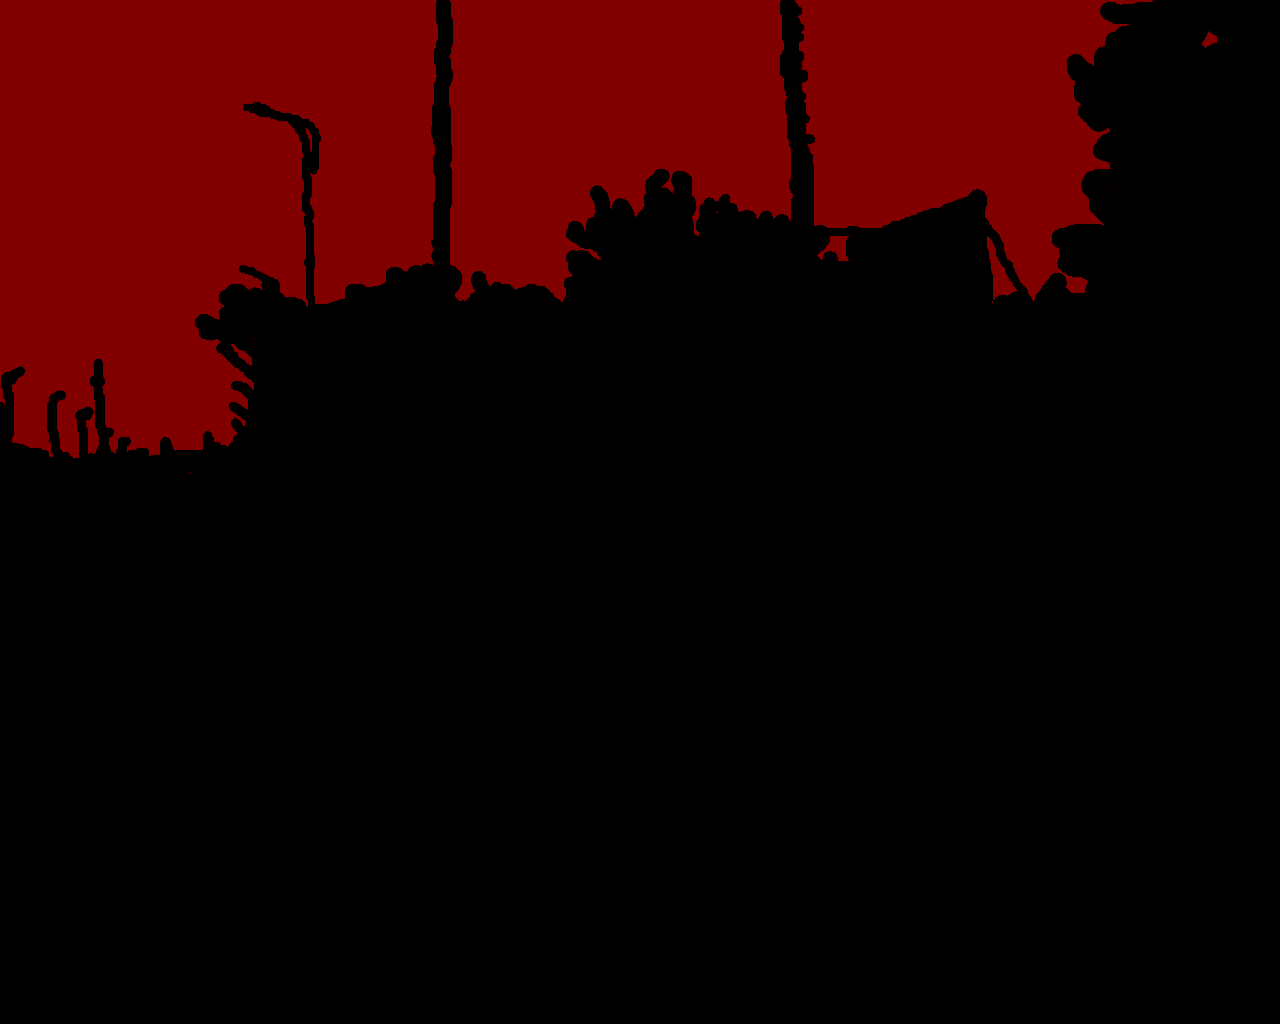Sky: (1, 1, 1216, 473)
